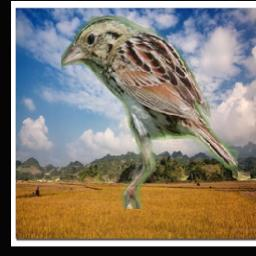Sparrow: (61, 15, 238, 209)
